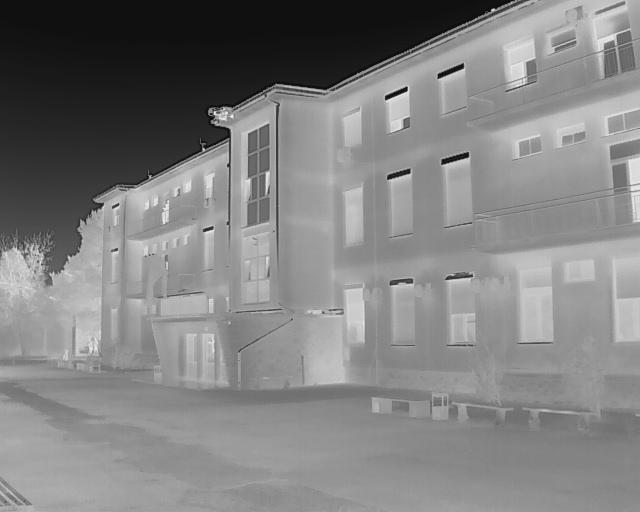drone: (200, 95, 238, 134)
